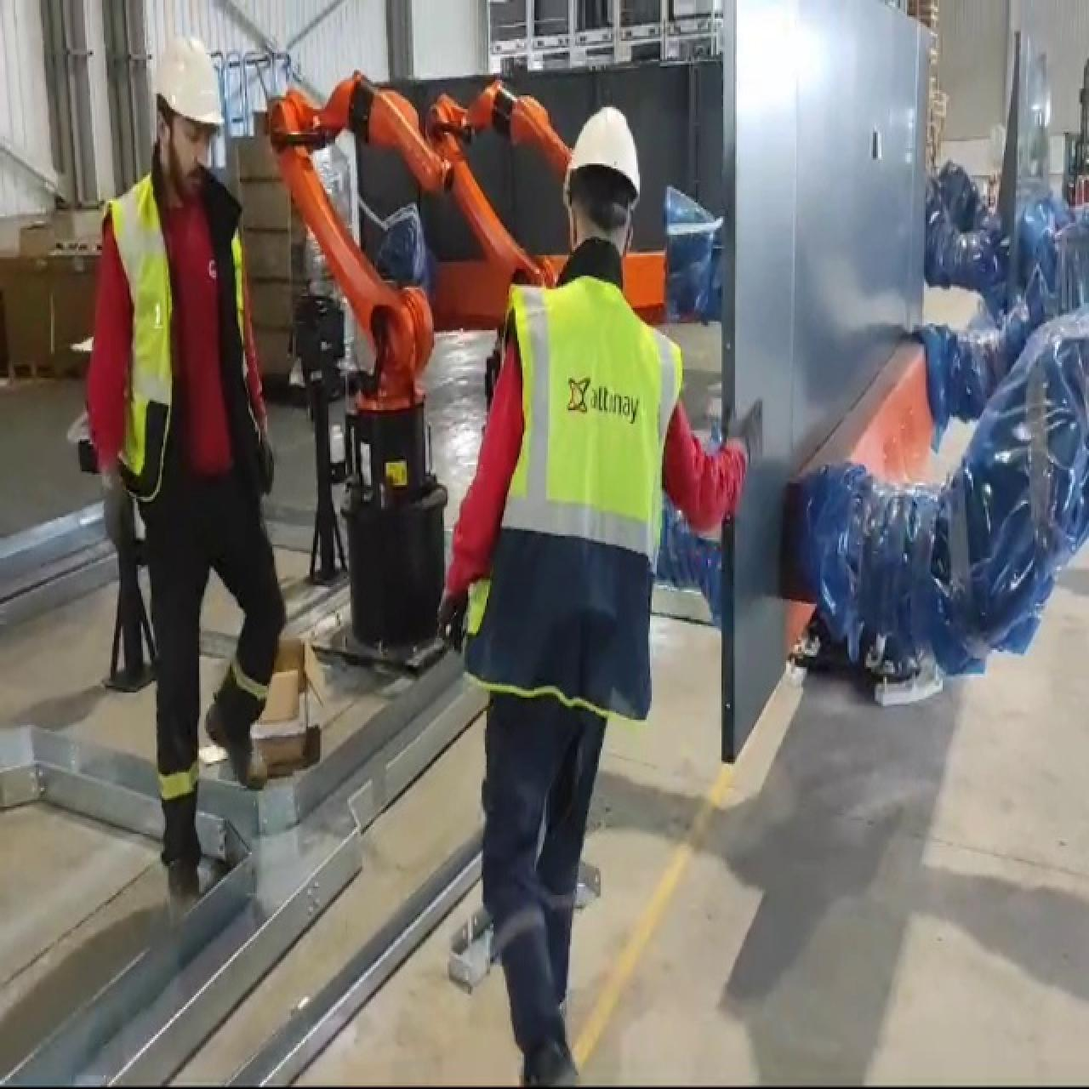Person: (429, 95, 734, 1088), (64, 18, 325, 906)
Safety_Vest: (466, 277, 680, 725), (96, 165, 293, 496)
